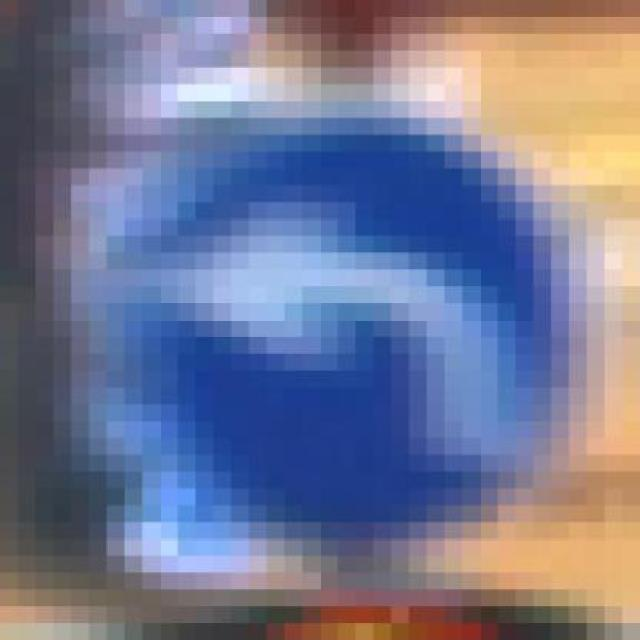Turn left ahead: (70, 84, 604, 573)
